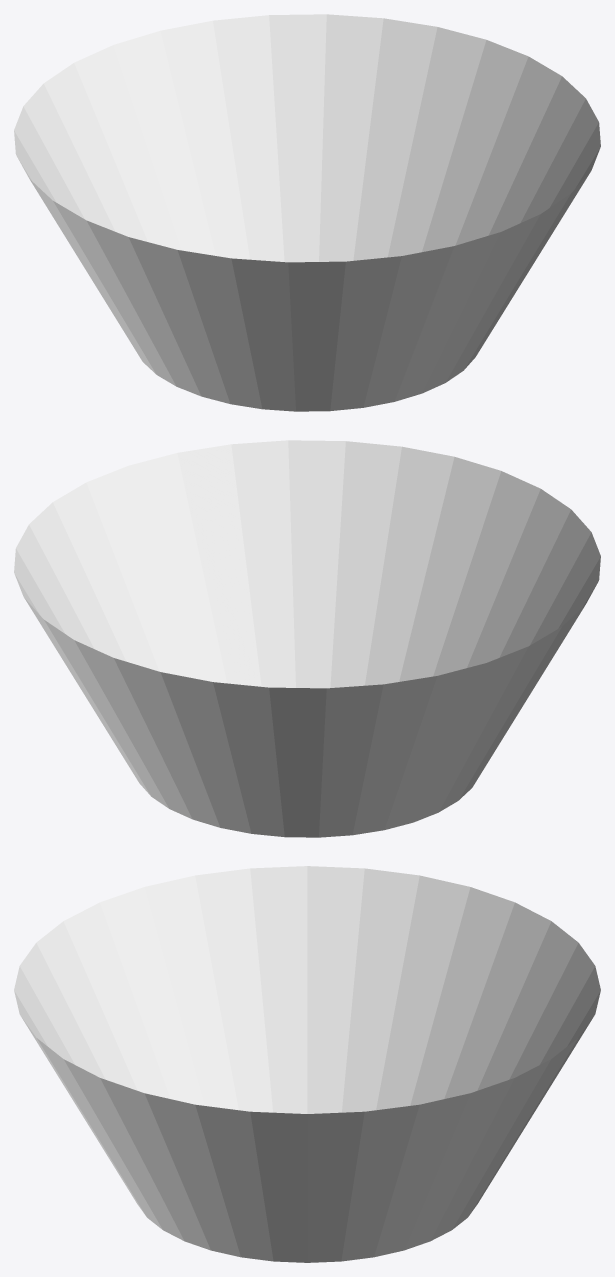
File: RushPower.obj
The picture shows the model from 3 angles, top to bottom: view 1: azimuth 30°, elevation 25°; view 2: azimuth 150°, elevation 25°; view 3: azimuth 270°, elevation 25°; orthographic projection.
Visible parts, largest first — view 1: 円柱; view 2: 円柱; view 3: 円柱.
Boxes of the visible parts, x1=… form: 円柱: x1=14, y1=14, x2=600, y2=411; 円柱: x1=14, y1=440, x2=600, y2=837; 円柱: x1=14, y1=866, x2=600, y2=1262.
Size of the model in its own units: 1.3 by 0.4888 by 1.3.
